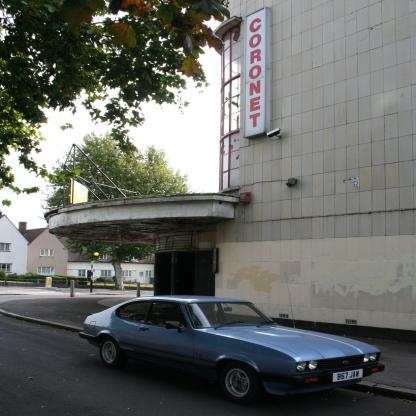Car: (78, 270, 384, 406)
